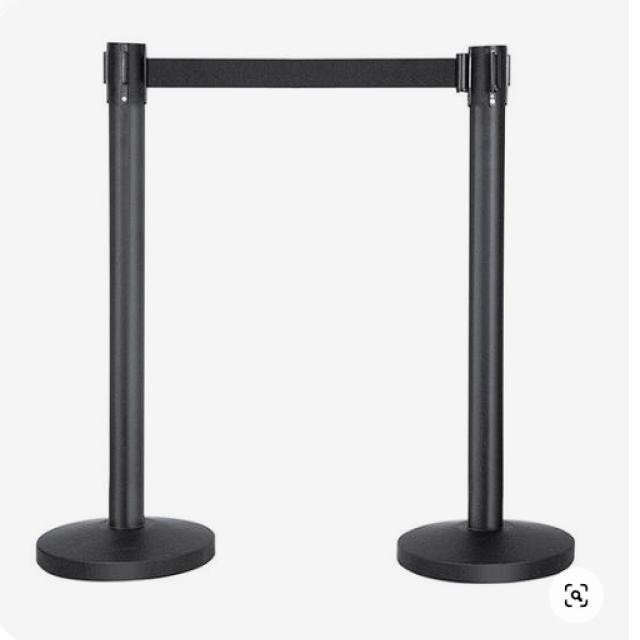Bollard: (94, 33, 158, 534), (462, 38, 512, 540)
